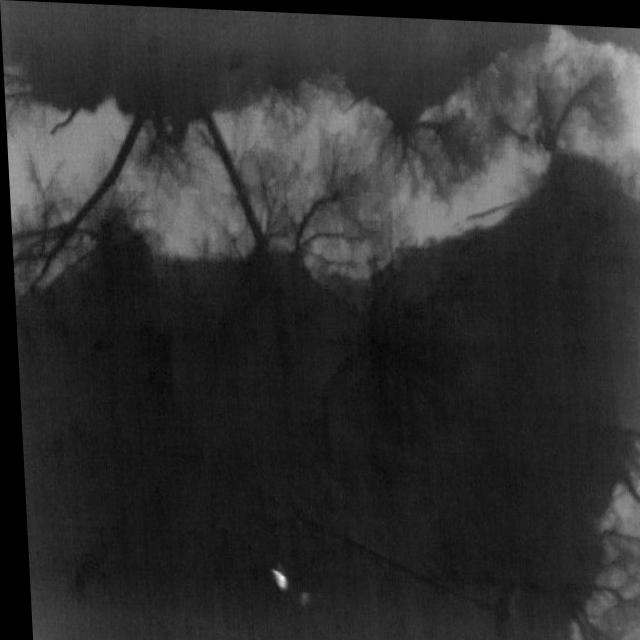deer: (265, 567, 282, 588)
